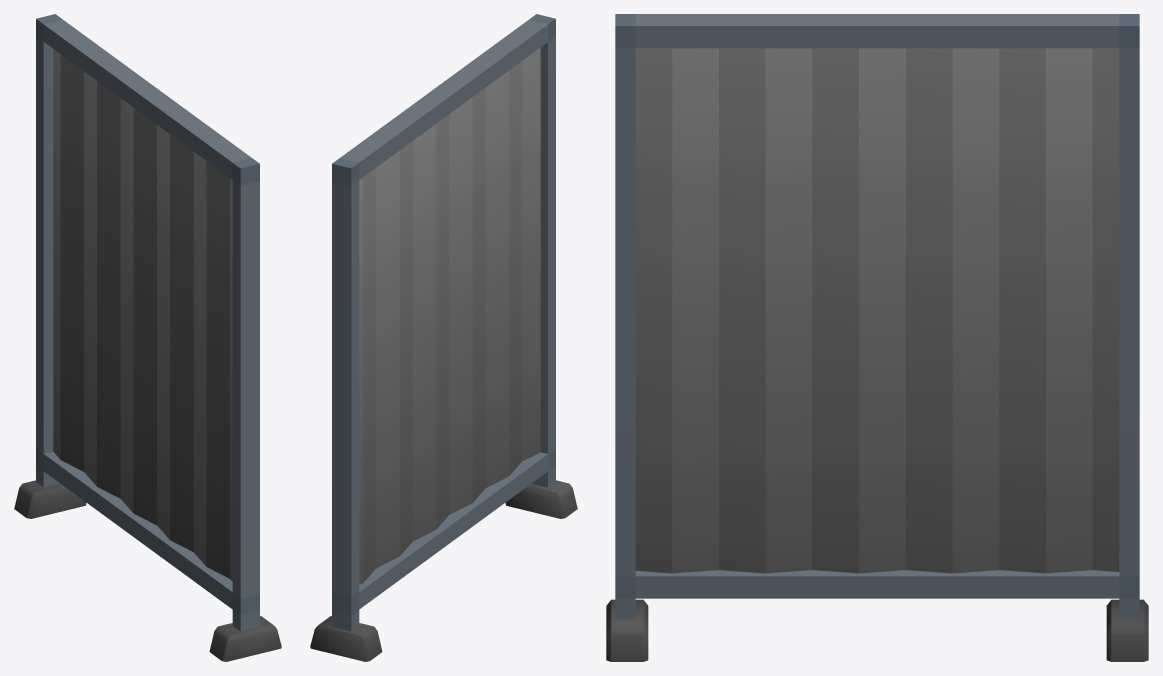
File: Barier_2_3.fbx
3 renders of one model, left to right at view 1: azimuth 30°, elevation 25°; view 2: azimuth 150°, elevation 25°; view 3: azimuth 270°, elevation 25°, orthographic. The views are drawn at different scales.
Parts seen in each view (by area): view 1: Barier_2_3; view 2: Barier_2_3; view 3: Barier_2_3.
Part boxes in pixels (x1,y1,x2,y2): Barier_2_3: [14, 14, 281, 661]; Barier_2_3: [310, 14, 577, 661]; Barier_2_3: [606, 14, 1148, 661].
Size of the model in its own units: 34.35 by 268 by 211.
